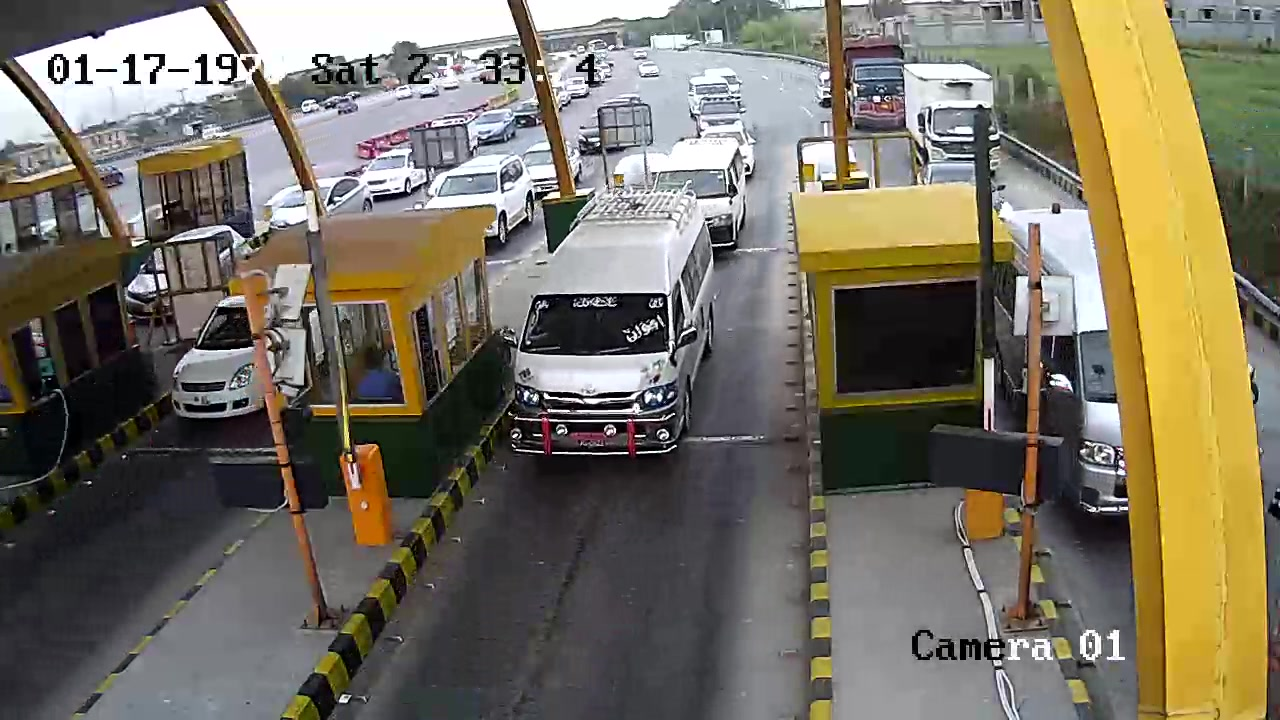F3: (493, 173, 741, 475)
